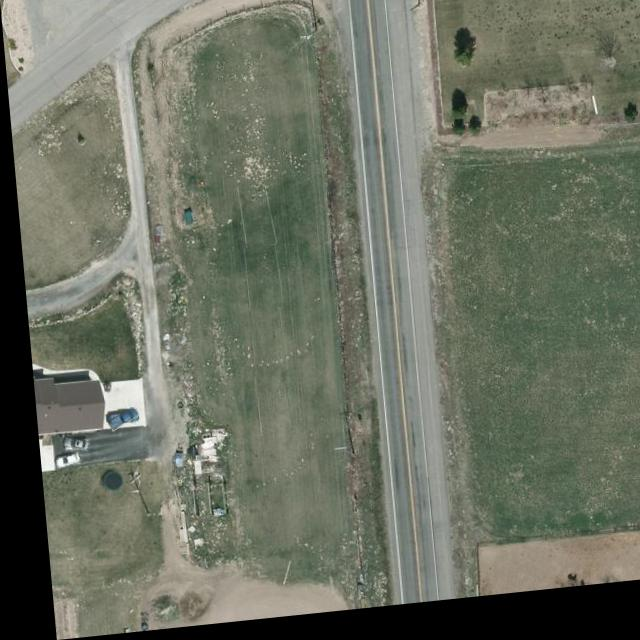vehicle: (98, 410, 133, 430), (54, 437, 82, 453), (46, 454, 73, 470)
